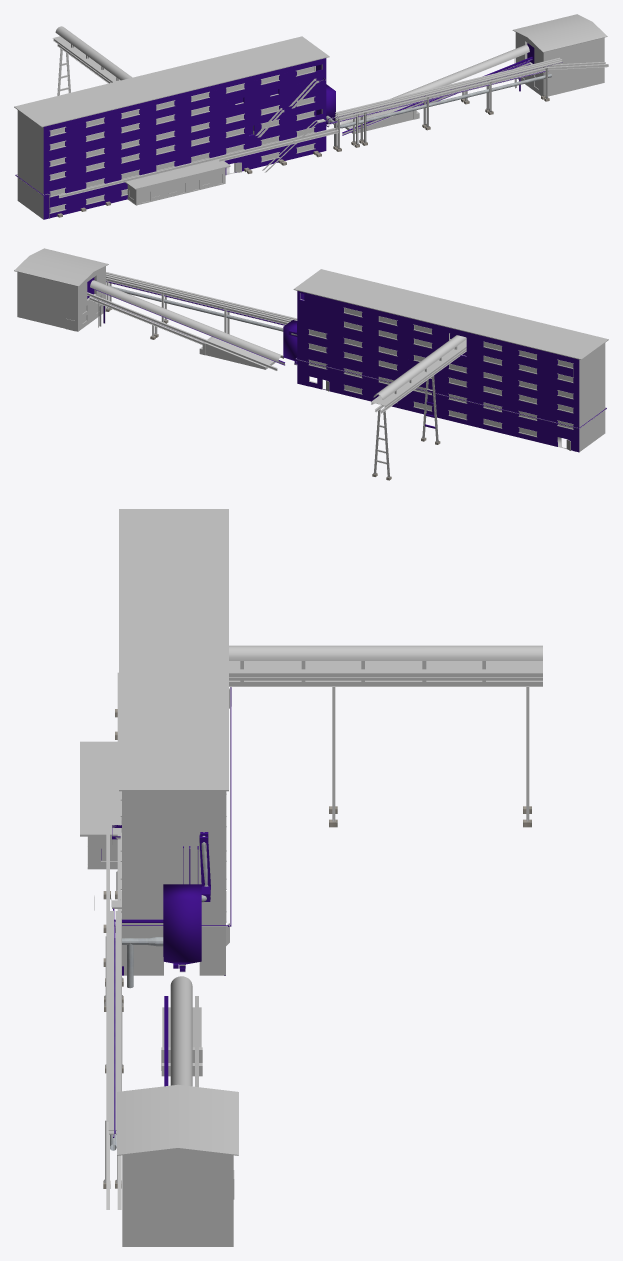
Rendered from outer.DAE.
The picture shows the model from 3 angles, top to bottom: view 1: azimuth 30°, elevation 25°; view 2: azimuth 150°, elevation 25°; view 3: azimuth 270°, elevation 25°; orthographic projection. The views are drawn at different scales.
Visible parts, largest first — view 1: P105_, P126_, P106_, P127_, P106-ch043, P106-ch029, P106-ch033, P106-ch041, P106-ch034, P106-ch032, P106-ch044, P106-ch035 (+28 smaller); view 2: P105_, P126_, P106-ch006, P106-ch005, P106_, P106-ch003, P106-ch004, P127_, P121_, P106-ch007, P106-ch001, P106-ch014 (+22 smaller); view 3: P105_, P106_, P126_, P127_, P102_, P135_, P124_, P131-ch001, P121_, P020-ins003, P020-ins001, P036-ins001 (+1 smaller).
Boxes of the visible parts, x1=… form: P105_: x1=14, y1=36, x2=329, y2=127; P126_: x1=515, y1=32, x2=604, y2=96; P106_: x1=17, y1=64, x2=322, y2=219; P127_: x1=512, y1=14, x2=607, y2=52; P106-ch043: x1=65, y1=122, x2=86, y2=209; P106-ch029: x1=44, y1=58, x2=325, y2=131; P106-ch033: x1=50, y1=83, x2=325, y2=160; P106-ch041: x1=104, y1=113, x2=121, y2=199; P106-ch034: x1=50, y1=99, x2=325, y2=174; P106-ch032: x1=50, y1=69, x2=325, y2=144; P106-ch044: x1=278, y1=71, x2=296, y2=157; P106-ch035: x1=50, y1=132, x2=248, y2=191; P105_: x1=293, y1=269, x2=608, y2=359; P126_: x1=17, y1=266, x2=105, y2=331; P106-ch006: x1=309, y1=365, x2=573, y2=440; P106-ch005: x1=309, y1=349, x2=573, y2=423; P106_: x1=300, y1=293, x2=605, y2=451; P106-ch003: x1=344, y1=327, x2=573, y2=393; P106-ch004: x1=309, y1=335, x2=573, y2=407; P127_: x1=14, y1=248, x2=108, y2=286; P121_: x1=90, y1=280, x2=283, y2=362; P106-ch007: x1=304, y1=292, x2=343, y2=337; P106-ch001: x1=344, y1=302, x2=579, y2=364; P106-ch014: x1=326, y1=386, x2=557, y2=446; P105_: x1=119, y1=509, x2=228, y2=791; P106_: x1=122, y1=791, x2=225, y2=975; P126_: x1=122, y1=1149, x2=233, y2=1246; P127_: x1=117, y1=1084, x2=238, y2=1155; P102_: x1=229, y1=645, x2=542, y2=660; P135_: x1=229, y1=661, x2=542, y2=673; P124_: x1=80, y1=741, x2=117, y2=836; P131-ch001: x1=163, y1=884, x2=201, y2=964; P121_: x1=170, y1=976, x2=192, y2=1086; P020-ins003: x1=229, y1=680, x2=542, y2=686; P020-ins001: x1=229, y1=673, x2=542, y2=678; P036-ins001: x1=108, y1=911, x2=113, y2=1130.
Size of what is drawn, in the model's own units: 1244 by 442 by 199.
